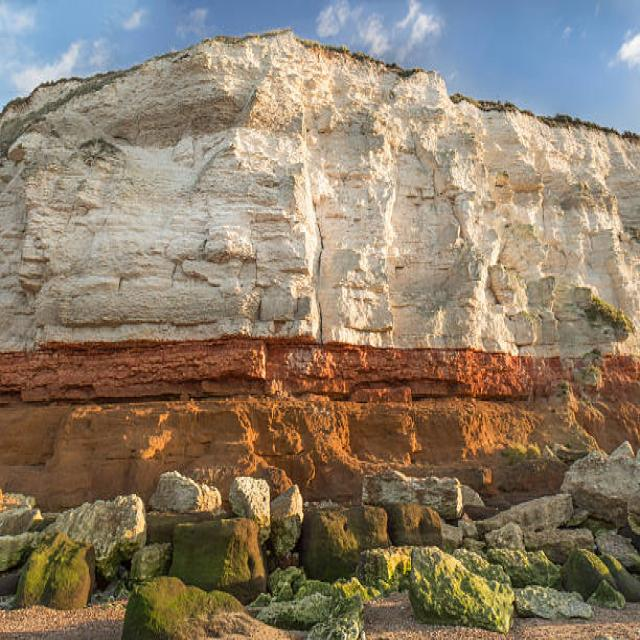Sedimentary: (1, 25, 639, 410)
